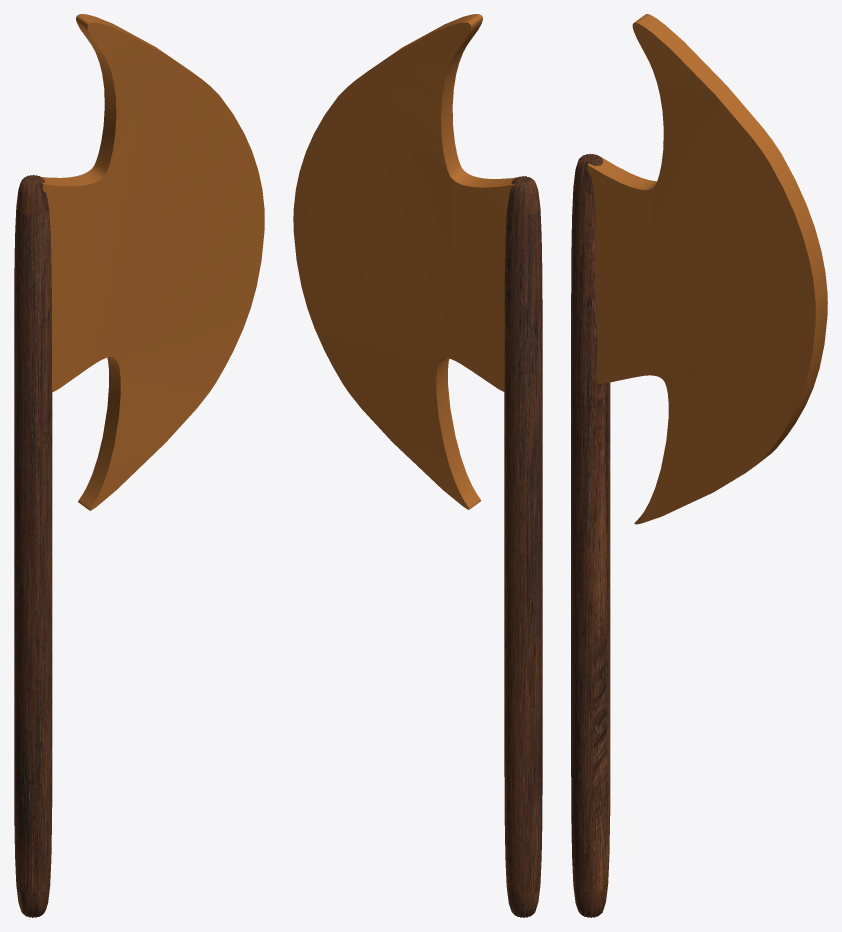
The model's file is copperAxe.fbx.
3 renders of one model, left to right at view 1: azimuth 30°, elevation 25°; view 2: azimuth 150°, elevation 25°; view 3: azimuth 330°, elevation 25°, orthographic. The views are drawn at different scales.
Parts seen in each view (by area): view 1: Extrude, Cylinder; view 2: Extrude, Cylinder; view 3: Extrude, Cylinder.
Boxes of the visible parts, x1,y1,x2,y2 form: Extrude: (41, 14, 264, 510); Cylinder: (14, 175, 52, 917); Extrude: (293, 14, 526, 509); Cylinder: (504, 176, 542, 917); Extrude: (587, 14, 827, 524); Cylinder: (571, 153, 610, 917).
Size of the model in its own units: 120 by 418 by 16.36.
Materials: 2 (1 with a texture image).
